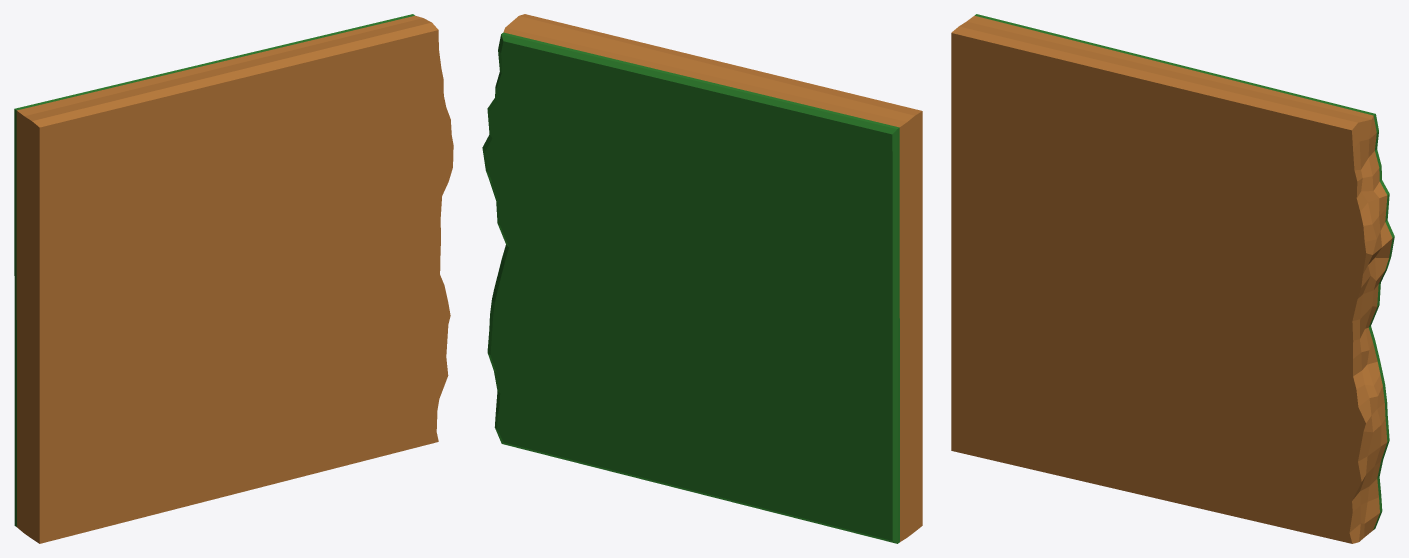
File: side3.fbx
3 views of the same model, side by side, from view 1: azimuth 30°, elevation 25°; view 2: azimuth 150°, elevation 25°; view 3: azimuth 330°, elevation 25° (orthographic).
Parts seen in each view (by area): view 1: side3; view 2: side3; view 3: side3.
Part boxes in pixels (x1,y1,x2,y2): side3: (14,14,453,543); side3: (482,14,922,543); side3: (951,14,1394,543).
Bounding box in the file's own units: 2090 × 2016 × 255.
